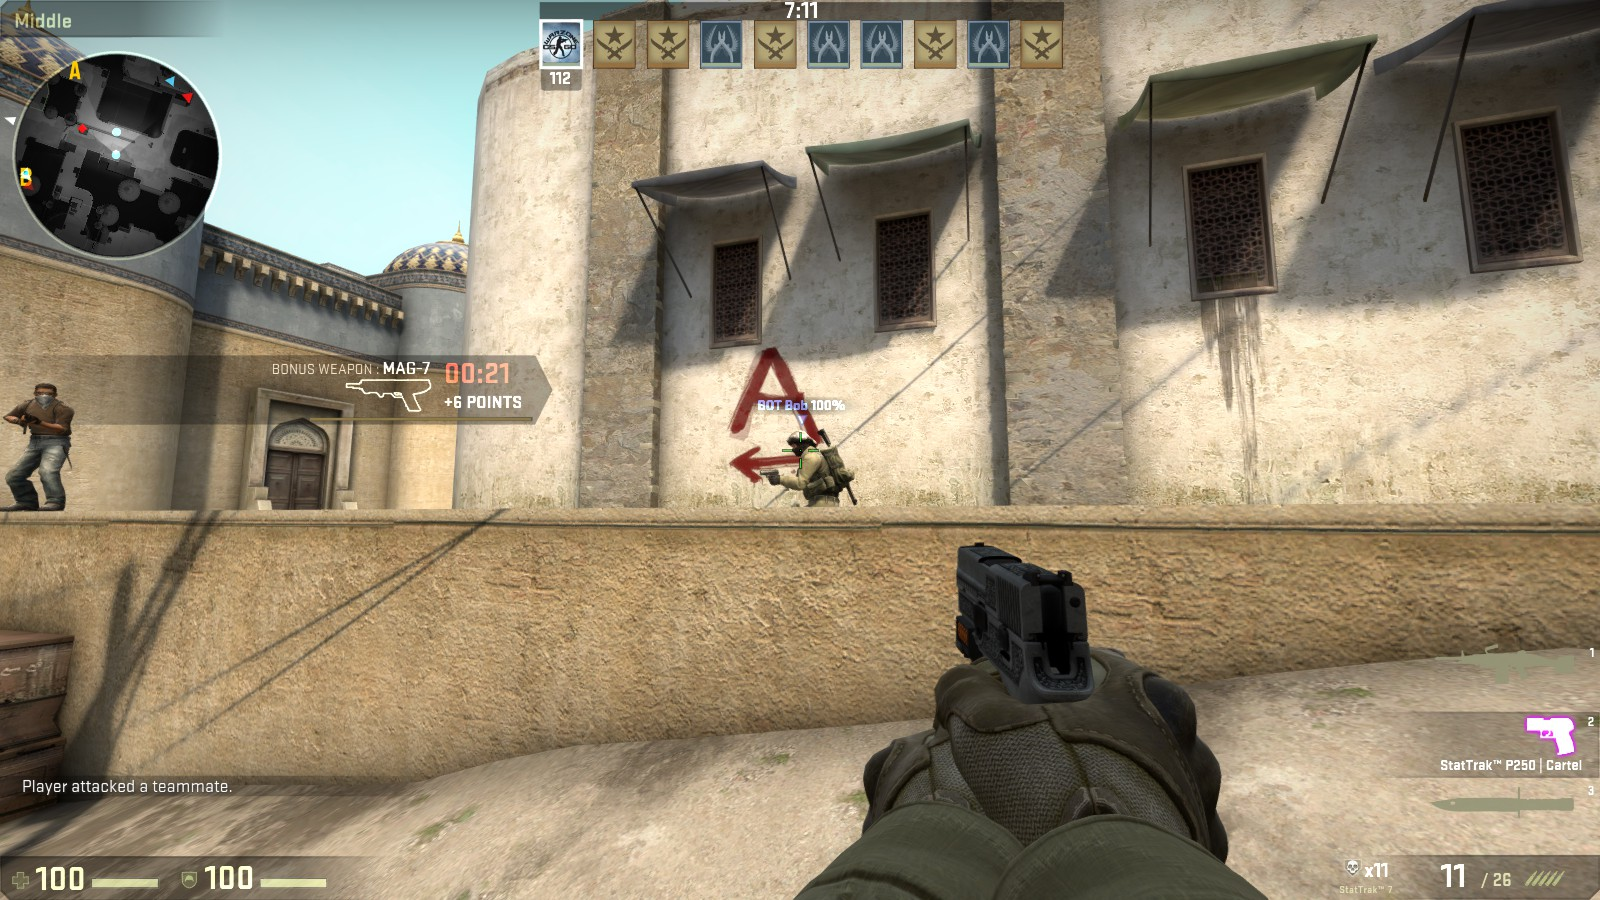c: (782, 429, 848, 514)
ch: (789, 429, 815, 457)
t: (1, 380, 78, 512)
th: (31, 384, 62, 404)
